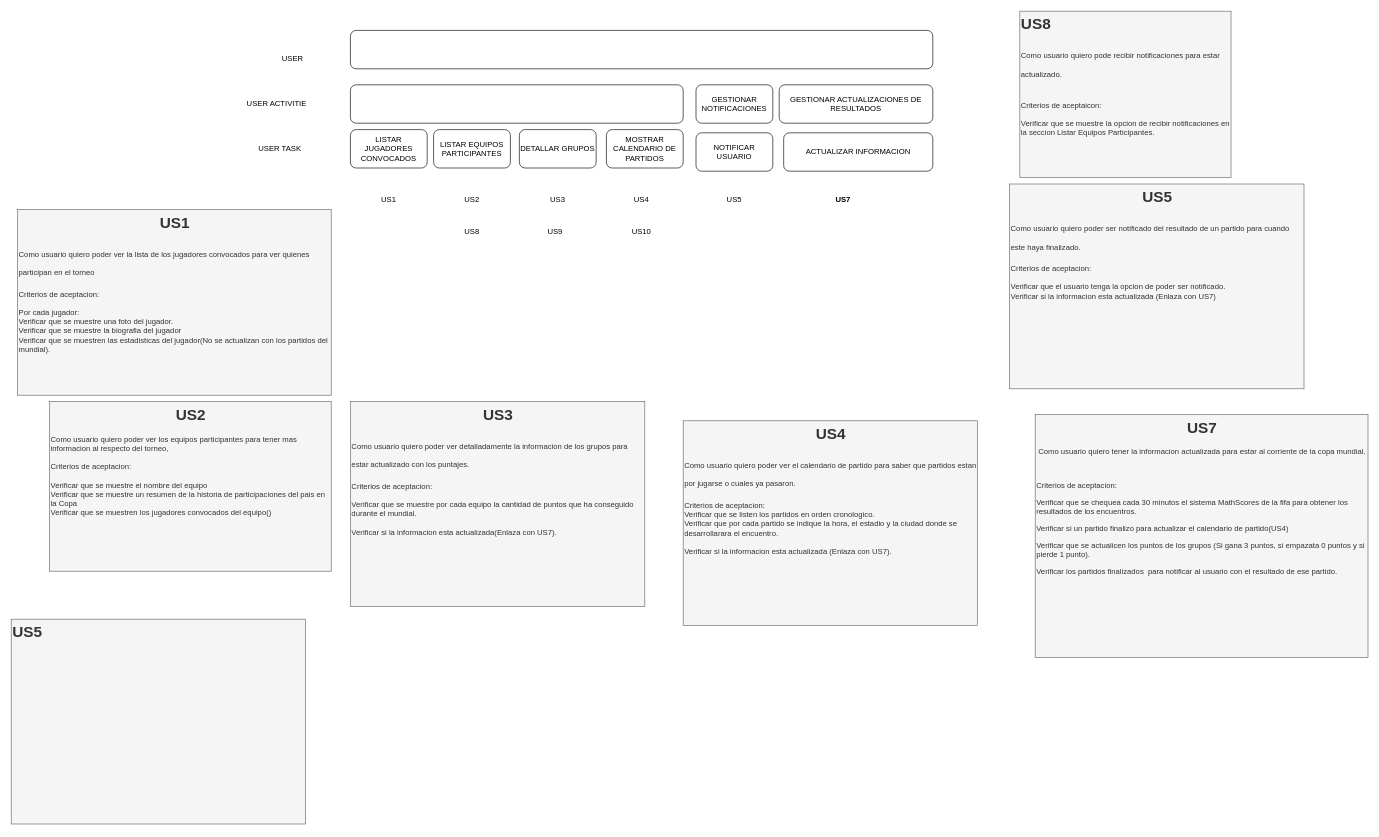
Some shapes in this 1379 by 837 pixel diagram are drawn without their labels. The shapes that lost their labels are listed below. From the top down, each one's box as (x1, y1, x2, y2) in pixels, then its label:
(350, 30, 933, 69): USUARIO
(350, 84, 683, 123): GESTIONAR INFORMACION DEL MUNDIAL
